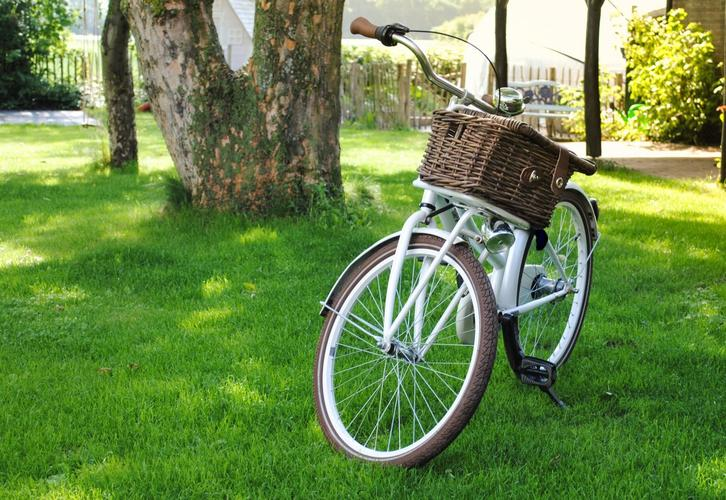单车: (306, 10, 645, 472)
